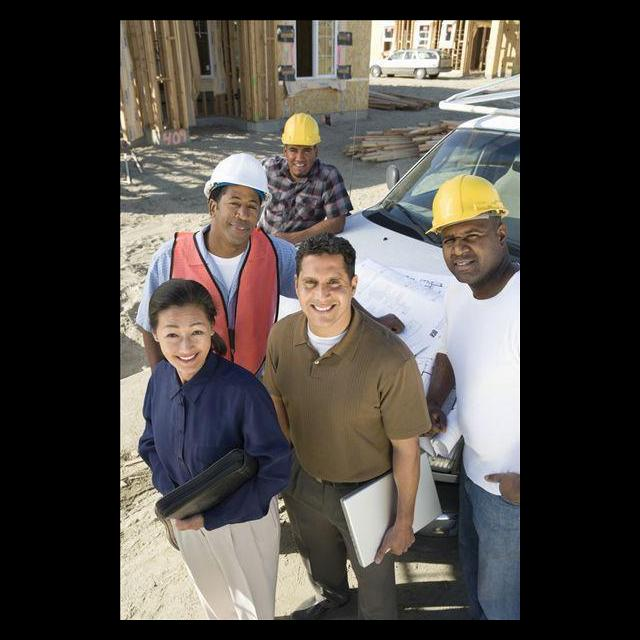Hardhat: (421, 175, 509, 234), (205, 151, 273, 208), (280, 109, 325, 146)
NO-Hardhat: (149, 280, 214, 314), (289, 236, 356, 264)
NO-Mask: (441, 245, 500, 284), (209, 214, 253, 249), (165, 342, 208, 376), (301, 295, 346, 326), (284, 157, 315, 177)
NO-Safety Vest: (268, 324, 397, 483), (145, 367, 262, 521), (441, 282, 520, 497), (262, 159, 331, 242)
Person: (258, 235, 422, 620), (136, 278, 291, 620), (418, 176, 520, 620), (134, 149, 300, 384), (258, 109, 352, 243)
SUV: (369, 47, 454, 82)
Safety Vest: (164, 231, 278, 371)
truck: (263, 106, 520, 494)
